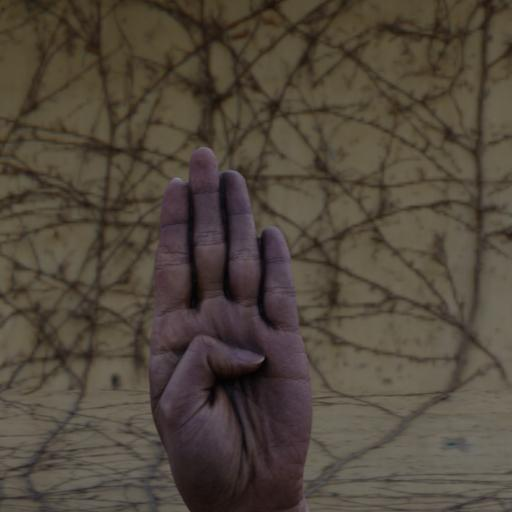B: (137, 139, 321, 512)
